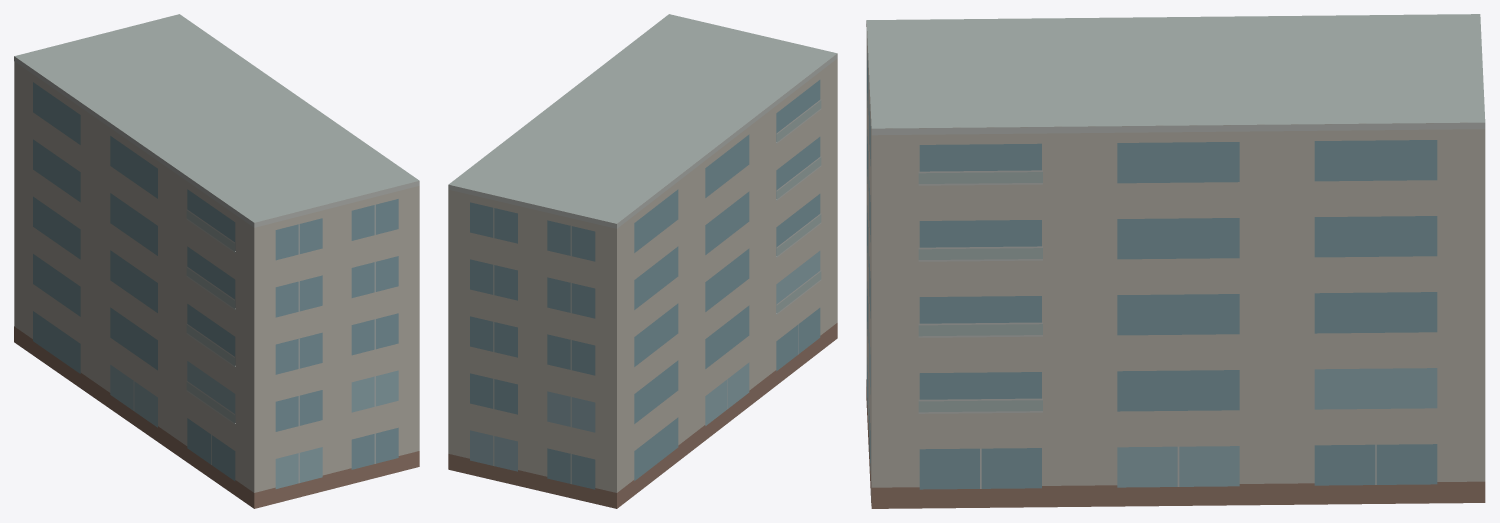
The model's file is survey-upis-32875751.glb.
3 views of the same model, side by side, from view 1: azimuth 30°, elevation 25°; view 2: azimuth 150°, elevation 25°; view 3: azimuth 270°, elevation 25° (orthographic). The views are drawn at different scales.
Visible parts, largest first — view 1: survey-upis-32875751.tmp; view 2: survey-upis-32875751.tmp; view 3: survey-upis-32875751.tmp.
Boxes of the visible parts, x1=… form: survey-upis-32875751.tmp: x1=14, y1=14, x2=419, y2=508; survey-upis-32875751.tmp: x1=448, y1=14, x2=837, y2=508; survey-upis-32875751.tmp: x1=866, y1=14, x2=1485, y2=508.
Bounding box in the file's own units: 9.06 × 14 × 20.65.
